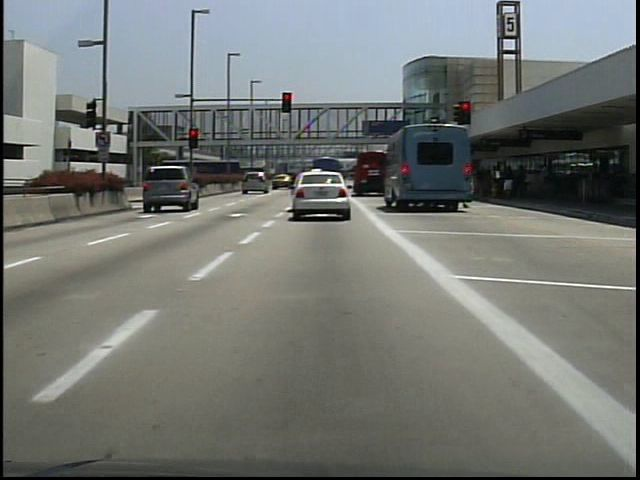person: (500, 164, 515, 203)
